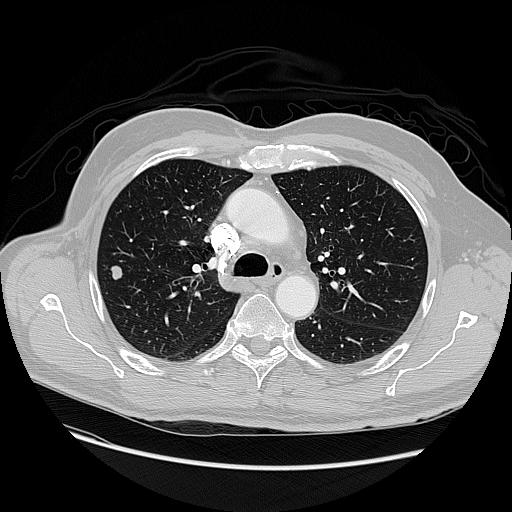nodule: (108, 264, 126, 282)
